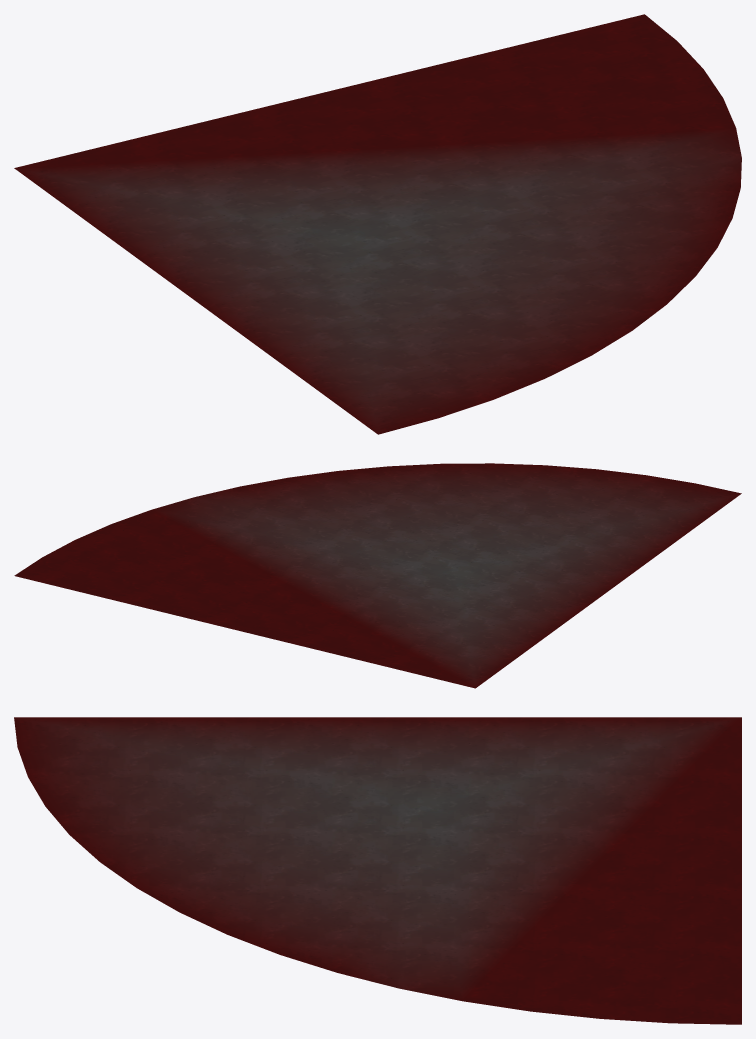
Rendered from Street_Asphalt_Curve_4Lane_Short.glb.
3 renders of one model, top to bottom at view 1: azimuth 30°, elevation 25°; view 2: azimuth 150°, elevation 25°; view 3: azimuth 270°, elevation 25°, orthographic. The views are drawn at different scales.
Visible parts, largest first — view 1: Street_Asphalt_Curve_4Lane_Short; view 2: Street_Asphalt_Curve_4Lane_Short; view 3: Street_Asphalt_Curve_4Lane_Short.
Boxes of the visible parts, <box> form: Street_Asphalt_Curve_4Lane_Short: <box>14,14,741,434</box>; Street_Asphalt_Curve_4Lane_Short: <box>14,463,741,688</box>; Street_Asphalt_Curve_4Lane_Short: <box>14,717,741,1024</box>.
Size of the model in its own units: 16 by 0 by 16.
1 material, 1 textured.
